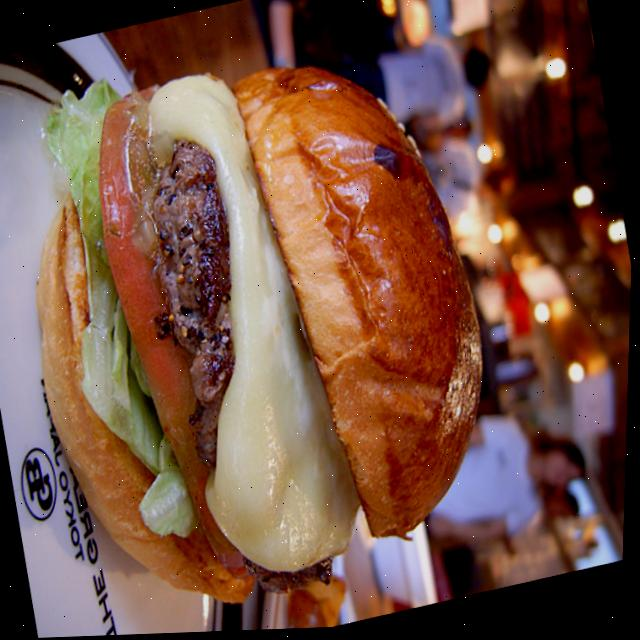汉堡快餐: (0, 1, 549, 640)
